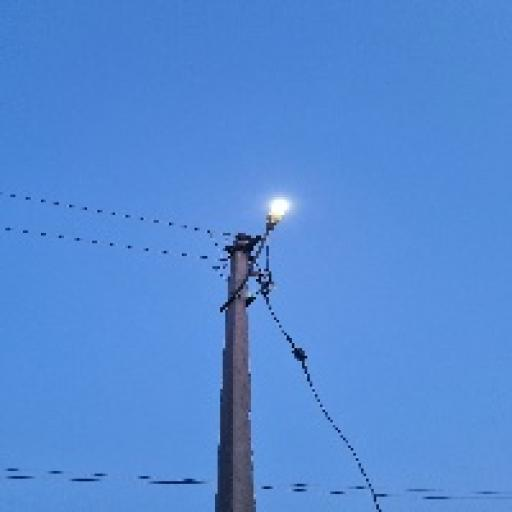Working: (260, 190, 296, 238)
